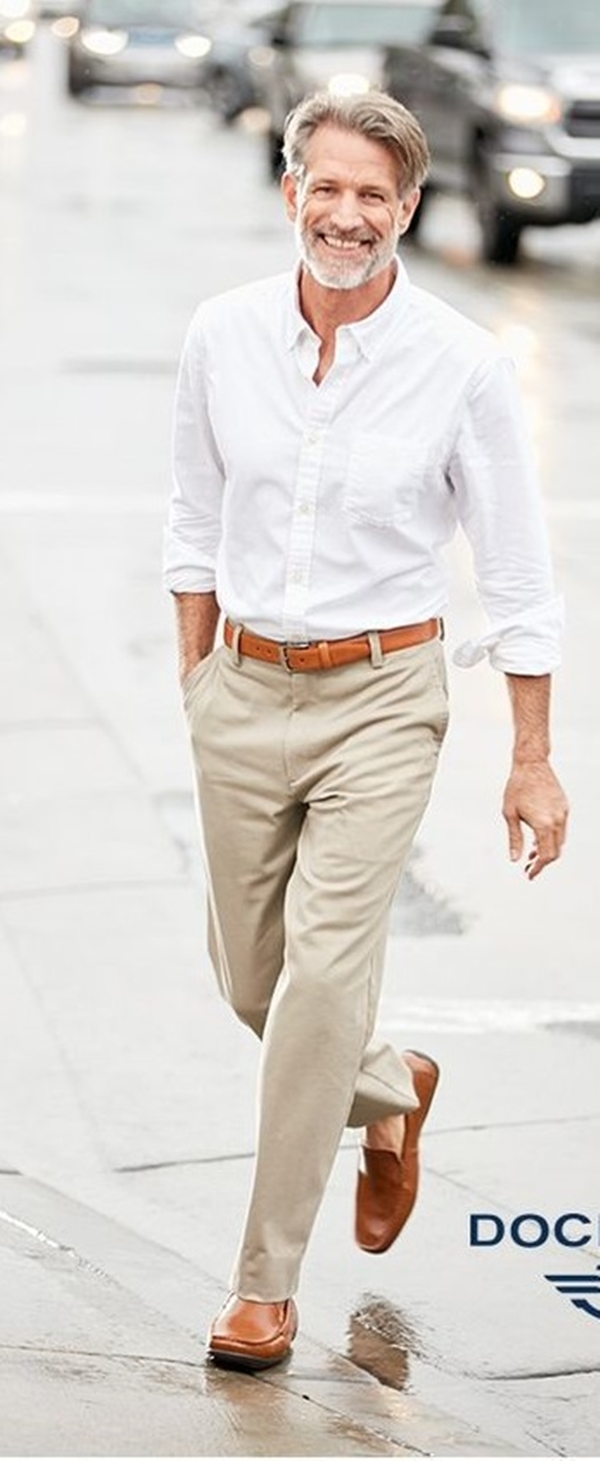NOTSAFE: (203, 77, 492, 673)
